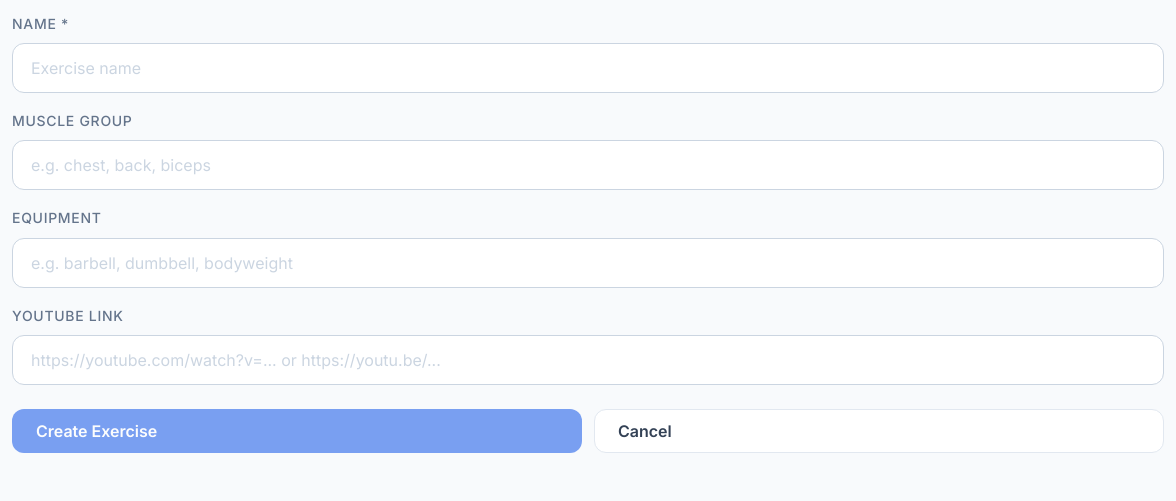
Test case: CustomExerciseForm › YouTube URL validation › shows error for invalid YouTube URL (e.g., Vimeo)
Step 1. Type "https://vimeo.com/123456" into the field with placeholder "https://youtube.com/watch?v=... or https://youtu.be/..." → (588, 360), box x1=12 y1=335 x2=1164 y2=385
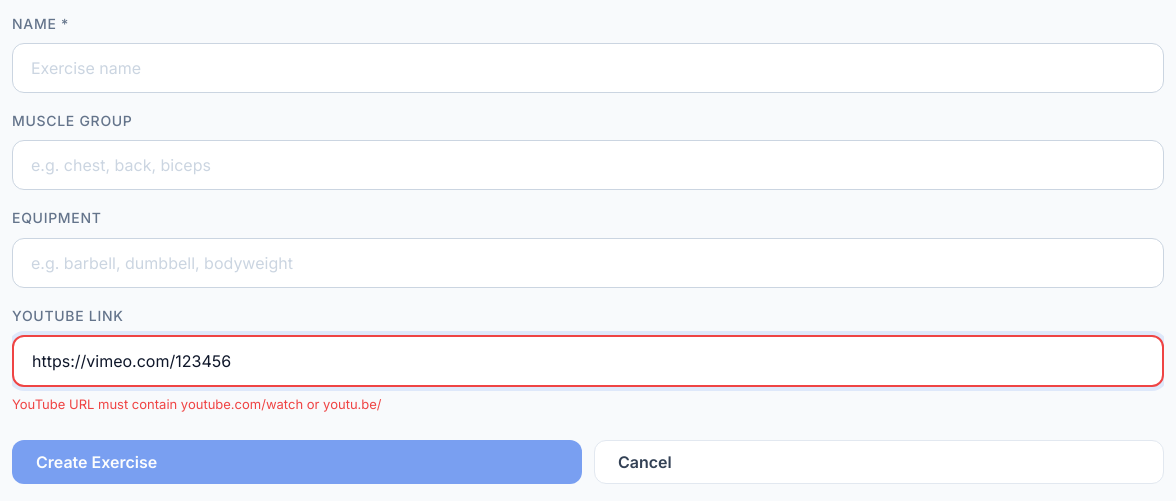
Expected: the text "YouTube URL must contain youtube.com/watch or youtu.be/" is shown, x1=12 y1=396 x2=382 y2=412
